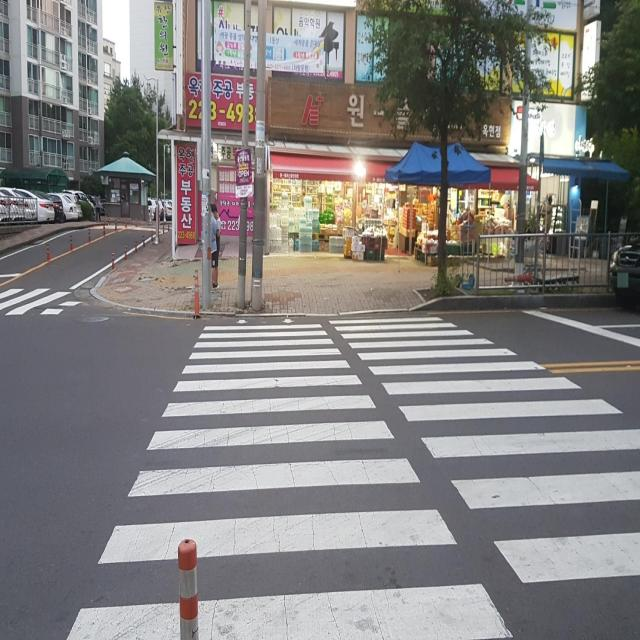횡단보도: (65, 314, 640, 640), (0, 284, 77, 319)
